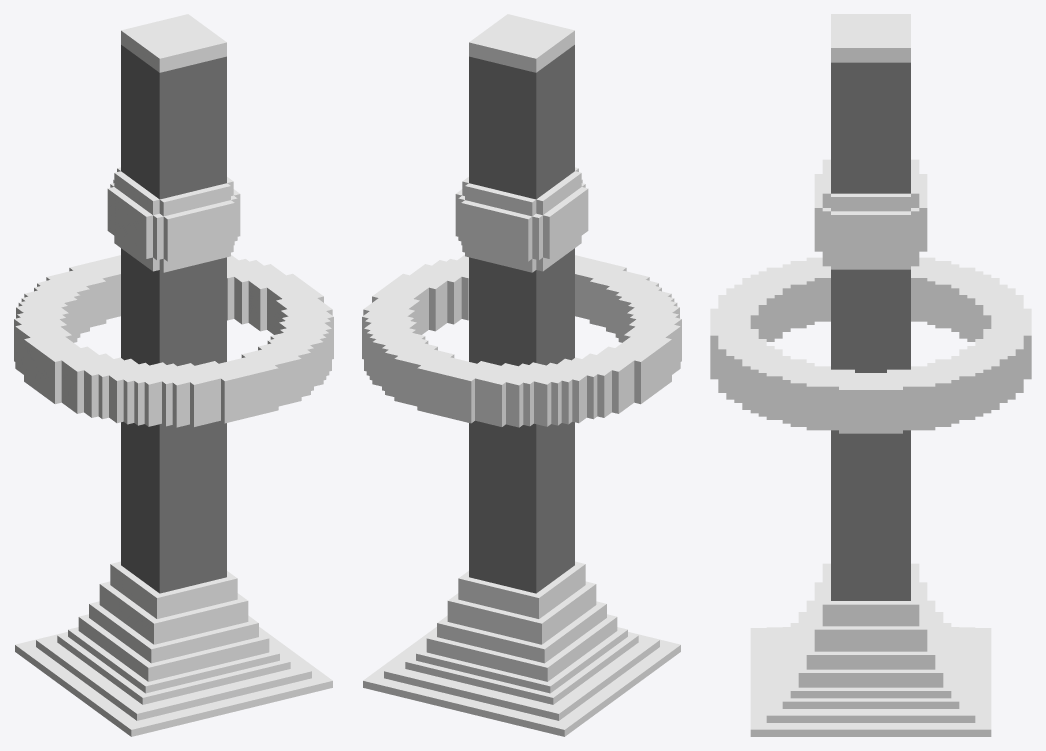
The model's file is capture_point.fbx.
3 renders of one model, left to right at view 1: azimuth 30°, elevation 25°; view 2: azimuth 150°, elevation 25°; view 3: azimuth 270°, elevation 25°, orthographic. The views are drawn at different scales.
Visible parts, largest first — view 1: capture_point; view 2: capture_point; view 3: capture_point.
Boxes of the visible parts, left/top/right/bottom form: capture_point: left=14, top=14, right=333, bottom=736; capture_point: left=362, top=14, right=681, bottom=736; capture_point: left=710, top=14, right=1031, bottom=736.
Size of the model in its own units: 40 by 90 by 40.
